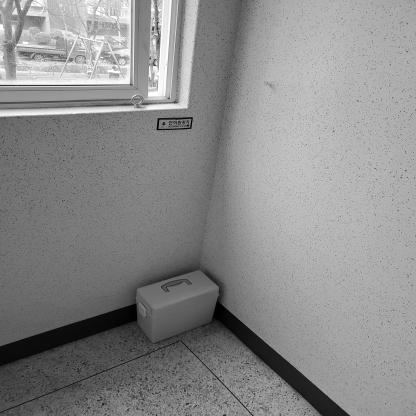DDL: (136, 270, 219, 343)
